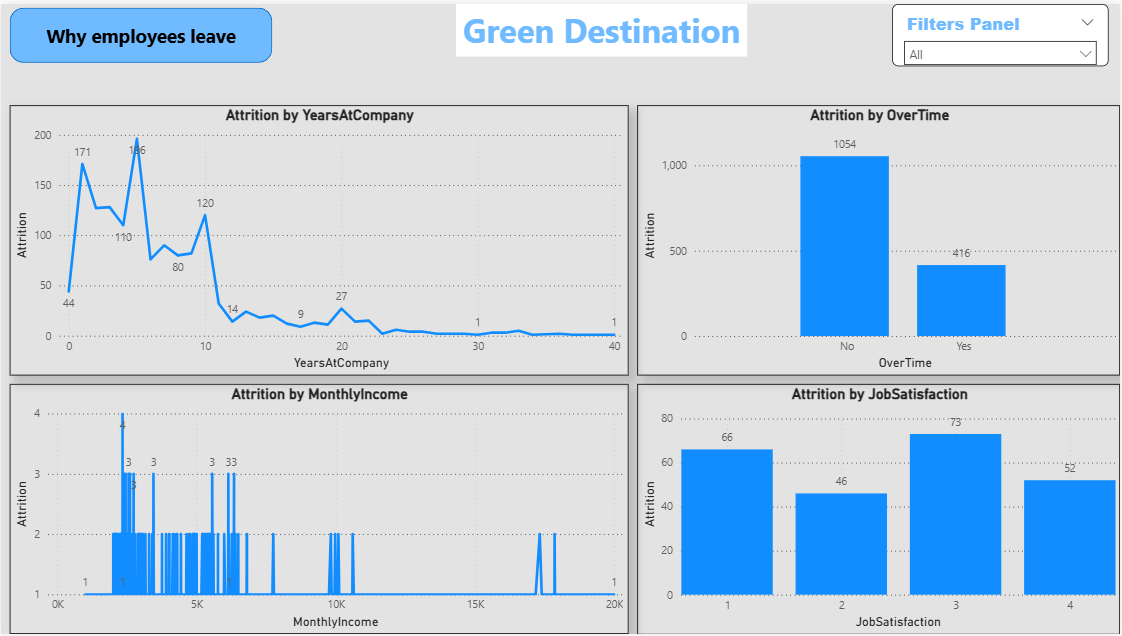

The dashboard page shown, as its layout file describes it:
{"tool":"powerbi","page":{"name":"Attrition Factor Analysis","canvas":[1280,720],"ordinal":1},"visuals":[{"type":"textbox","box":[520,0,332.9,60],"z":0},{"type":"slicer","fields":{"Values":["greendestination (2).Department","greendestination (2).JobRole","greendestination (2).OverTime","greendestination (2).Gender","greendestination (2).Income Category","greendestination (2).EducationField"]},"box":[1018.6,0,247.1,71.4],"z":1000},{"type":"shape","box":[10,4.3,300,62.9],"z":2000},{"type":"lineChart","title":"Attrition by MonthlyIncome","fields":{"Category":["greendestination (2).MonthlyIncome"],"Y":["CountNonNull(greendestination (2).Attrition)"]},"box":[10,434.3,707.1,285.7],"z":3000},{"type":"lineChart","title":"Attrition by YearsAtCompany","fields":{"Y":["CountNonNull(greendestination (2).Attrition)"],"Category":["greendestination (2).YearsAtCompany"]},"box":[10,115.7,707.1,308.6],"z":4000},{"type":"columnChart","title":"Attrition by OverTime","fields":{"Y":["CountNonNull(greendestination (2).Attrition)"],"Category":["greendestination (2).OverTime"]},"box":[727,116,553,309],"z":5000},{"type":"columnChart","title":"Attrition by JobSatisfaction","fields":{"Y":["greendestination (2).Attrition Count"],"Category":["greendestination (2).JobSatisfaction"]},"box":[727,434,553,286],"z":6000}]}

Visuals, with their boxes in screenshot pixels (x1, y1, x2, y2), scaled from the page's 1280x720 canvas onto the 1122x636 screenshot:
textbox: bbox=(456, 0, 748, 53)
slicer - greendestination (2).Department x greendestination (2).JobRole: bbox=(893, 0, 1109, 63)
shape: bbox=(9, 4, 272, 59)
"Attrition by MonthlyIncome" lineChart: bbox=(9, 384, 629, 635)
"Attrition by YearsAtCompany" lineChart: bbox=(9, 102, 629, 375)
"Attrition by OverTime" columnChart: bbox=(637, 102, 1121, 375)
"Attrition by JobSatisfaction" columnChart: bbox=(637, 383, 1121, 635)
